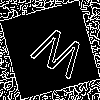W: (25, 25, 88, 88)
